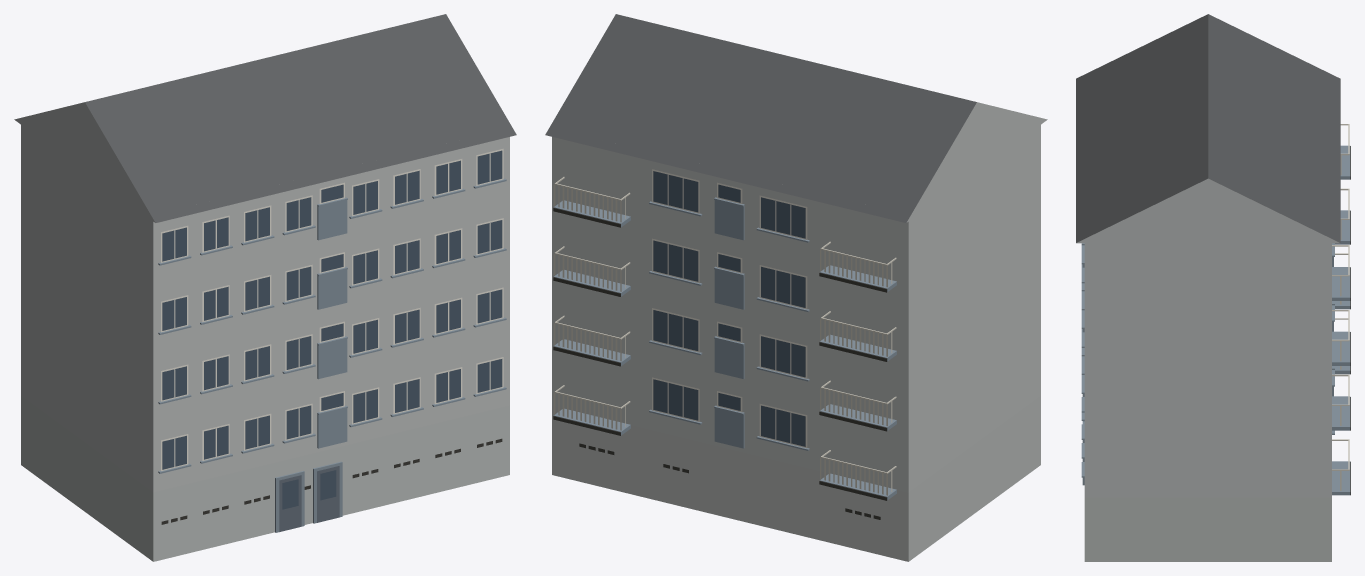
File: nw-peach-render-entrance-front__grey-blue__5__gable__long__solid.glb
3 renders of one model, left to right at view 1: azimuth 30°, elevation 25°; view 2: azimuth 150°, elevation 25°; view 3: azimuth 270°, elevation 25°, orthographic. The views are drawn at different scales.
Parts seen in each view (by area): view 1: nw-peach-render-entrance-front__grey-blue__5__gable__long__s; view 2: nw-peach-render-entrance-front__grey-blue__5__gable__long__s; view 3: nw-peach-render-entrance-front__grey-blue__5__gable__long__s.
Boxes of the visible parts, x1,y1,x2,y2 form: nw-peach-render-entrance-front__grey-blue__5__gable__long__s: (14,14,516,561); nw-peach-render-entrance-front__grey-blue__5__gable__long__s: (545,14,1047,561); nw-peach-render-entrance-front__grey-blue__5__gable__long__s: (1076,14,1350,561).
Size of the model in its own units: 16.08 by 17.52 by 11.35.
